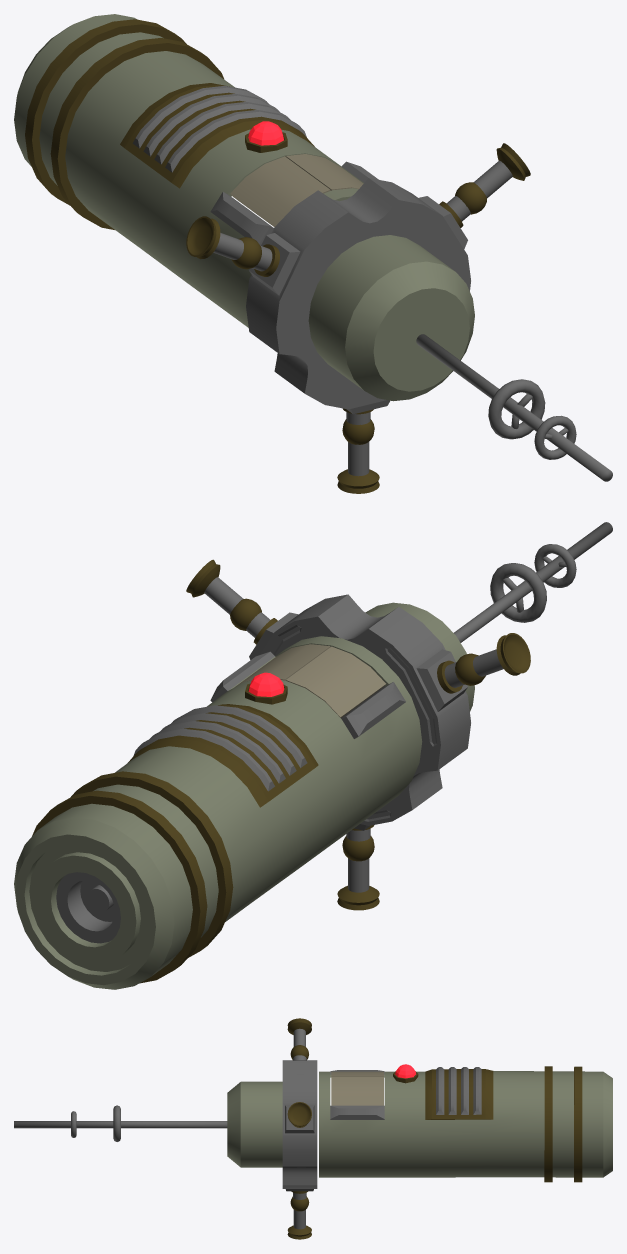
The model's file is ToolIdea.gltf.
3 views of the same model, one above another, from view 1: azimuth 30°, elevation 25°; view 2: azimuth 150°, elevation 25°; view 3: azimuth 270°, elevation 25° (orthographic). The views are drawn at different scales.
Visible parts, largest first — view 1: Base, Front, Wheel, Antenna, BaseLidRight, Arm3, Arm1, Arm2, BaseLidLeft, HoloCrystal; view 2: Base, Wheel, Antenna, BaseLidRight, Arm3, Arm1, Arm2, Front, BaseLidLeft, HoloCrystal; view 3: Base, Front, Wheel, Antenna, BaseLidLeft, Arm1, Arm3, Arm2, HoloCrystal, BaseLidRight.
Boxes of the visible parts, bbox=[...] form: Base: bbox=[14, 14, 378, 327]; Front: bbox=[308, 235, 474, 401]; Wheel: bbox=[246, 178, 470, 414]; Antenna: bbox=[416, 334, 612, 481]; BaseLidRight: bbox=[230, 156, 330, 226]; Arm3: bbox=[186, 216, 261, 269]; Arm1: bbox=[337, 419, 379, 493]; Arm2: bbox=[455, 143, 530, 214]; BaseLidLeft: bbox=[285, 154, 363, 190]; HoloCrystal: bbox=[245, 121, 287, 152]; Base: bbox=[14, 636, 422, 989]; Wheel: bbox=[249, 594, 470, 830]; Antenna: bbox=[454, 522, 612, 642]; BaseLidRight: bbox=[285, 646, 385, 717]; Arm3: bbox=[455, 633, 530, 685]; Arm1: bbox=[337, 836, 379, 910]; Arm2: bbox=[186, 559, 261, 630]; Front: bbox=[365, 602, 474, 711]; BaseLidLeft: bbox=[235, 644, 330, 686]; HoloCrystal: bbox=[245, 672, 287, 704]; Base: bbox=[319, 1066, 612, 1182]; Front: bbox=[227, 1081, 282, 1167]; Wheel: bbox=[282, 1060, 317, 1191]; Antenna: bbox=[14, 1105, 227, 1141]; BaseLidLeft: bbox=[331, 1076, 383, 1105]; Arm1: bbox=[287, 1196, 311, 1239]; Arm3: bbox=[287, 1018, 311, 1059]; Arm2: bbox=[287, 1102, 311, 1126]; HoloCrystal: bbox=[393, 1064, 418, 1083]; BaseLidRight: bbox=[331, 1071, 383, 1076].
Size of the model in its own units: 0.6182 by 0.5354 by 1.67.
